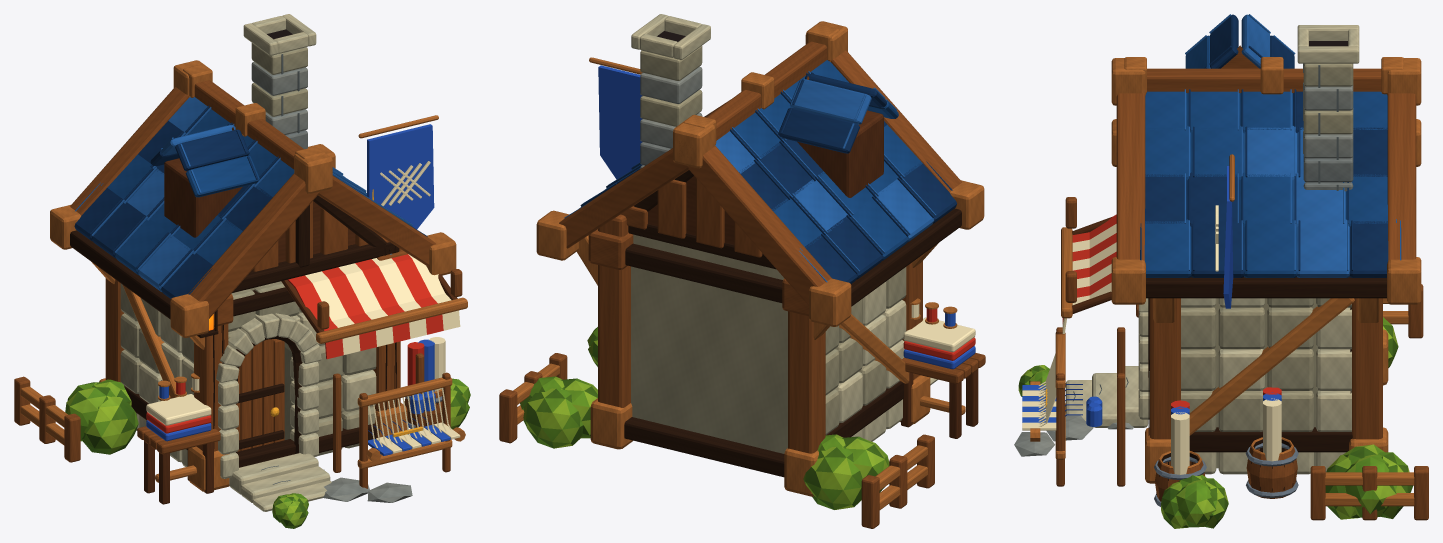
File: weaver.glb
The picture shows the model from 3 angles, left to right: view 1: azimuth 30°, elevation 25°; view 2: azimuth 150°, elevation 25°; view 3: azimuth 270°, elevation 25°; orthographic projection. The views are drawn at different scales.
Parts seen in each view (by area): view 1: Carved roof verge, Cloth heraldic banner, Carved roof verge.002, Dormer body, Carved roof verge.001, Gable tie beam, Ridge timber, Leaf cluster.004, Roof eave, Corner upright, Soft edged blue roof tile.042, Awning front beam (+85 smaller); view 2: Cottage walls, Carved roof verge.001, Corner upright.003, Corner upright.001, Cloth heraldic banner, Wall cross beam.001, Carved roof verge.003, Wall cross beam.003, Dormer body, Ridge timber, Leaf cluster.007, Leaf cluster.011 (+65 smaller); view 3: Carved roof verge.002, Carved roof verge.003, Roof eave.001, Ridge timber, Corner upright.003, Side wall diagonal.001, Corner upright.002, Soft edged blue roof tile.038, Soft edged blue roof tile.039, Side wall lower tie.001, Soft edged blue roof tile.036, Soft edged blue roof tile.028 (+72 smaller).
Part boxes in pixels (x1,y1,x2,y2): Carved roof verge: [188, 173, 319, 318]; Cloth heraldic banner: [367, 124, 434, 229]; Carved roof verge.002: [318, 175, 435, 266]; Dormer body: [164, 158, 242, 237]; Carved roof verge.001: [70, 87, 188, 215]; Gable tie beam: [232, 242, 399, 292]; Ridge timber: [194, 80, 303, 169]; Leaf cluster.004: [82, 396, 138, 454]; Roof eave: [70, 230, 170, 319]; Corner upright: [194, 324, 228, 451]; Soft edged blue roof tile.042: [185, 155, 260, 197]; Awning front beam: [316, 297, 467, 343]; Cottage walls: [631, 234, 787, 453]; Carved roof verge.001: [687, 145, 831, 305]; Corner upright.003: [598, 214, 630, 407]; Corner upright.001: [788, 311, 825, 453]; Cloth heraldic banner: [598, 65, 642, 179]; Wall cross beam.001: [624, 417, 784, 477]; Carved roof verge.003: [559, 148, 688, 248]; Wall cross beam.003: [625, 243, 782, 302]; Dormer body: [797, 110, 883, 197]; Ridge timber: [679, 41, 827, 153]; Leaf cluster.007: [803, 447, 862, 509]; Leaf cluster.011: [523, 388, 583, 448]; Carved roof verge.002: [1116, 93, 1145, 260]; Carved roof verge.003: [1387, 93, 1416, 260]; Roof eave.001: [1146, 277, 1386, 298]; Ridge timber: [1147, 68, 1381, 93]; Corner upright.003: [1352, 298, 1382, 439]; Side wall diagonal.001: [1189, 298, 1354, 435]; Corner upright.002: [1150, 298, 1180, 439]; Soft edged blue roof tile.038: [1244, 219, 1296, 277]; Soft edged blue roof tile.039: [1297, 219, 1349, 277]; Side wall lower tie.001: [1189, 427, 1352, 452]; Soft edged blue roof tile.036: [1144, 219, 1191, 277]; Soft edged blue roof tile.028: [1244, 125, 1296, 179].
Size of the model in its own units: 4.09 by 4.2 by 3.61.
33 materials, 23 textured.
